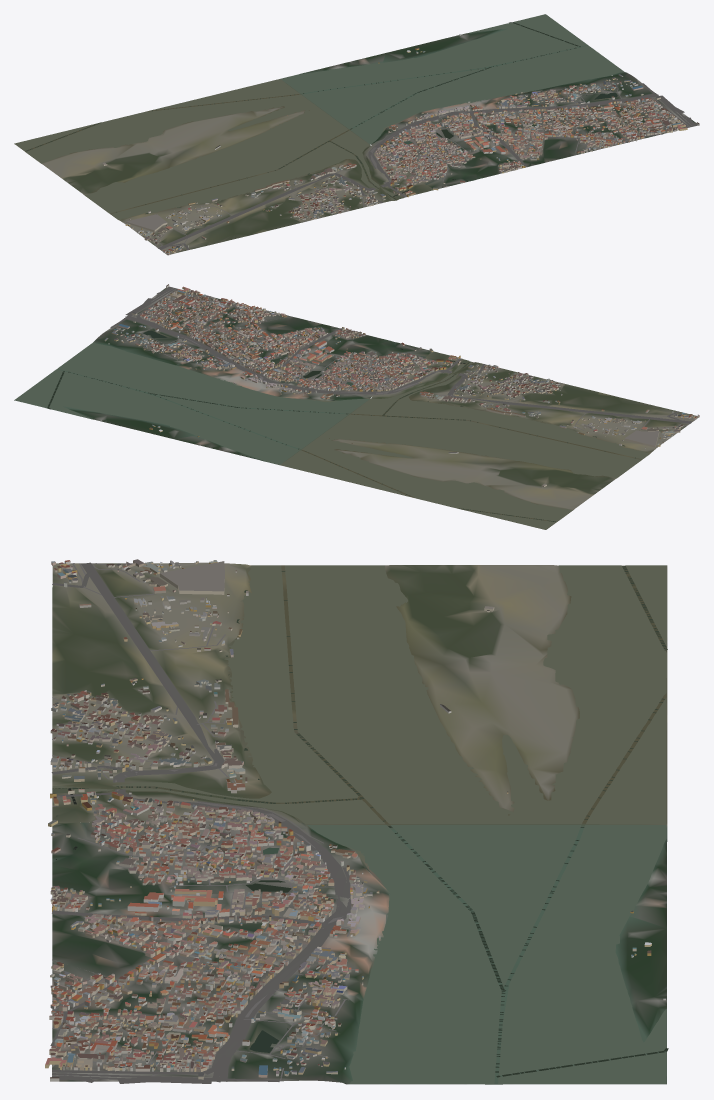
3 views of the same model, one above another, from view 1: azimuth 30°, elevation 25°; view 2: azimuth 150°, elevation 25°; view 3: azimuth 270°, elevation 25° (orthographic). The views are drawn at different scales.
Visible parts, largest first — view 1: water, ground, buildings, roads; view 2: water, ground, buildings, roads; view 3: water, ground, buildings, roads.
Part boxes in pixels (x1,y1,x2,y2): water: (14,14,624,219); ground: (14,22,697,255); buildings: (102,34,699,255); roads: (155,80,697,252); water: (14,330,649,529); ground: (14,287,699,529); buildings: (100,284,699,486); roads: (110,286,694,432); water: (52,565,668,1083); ground: (52,562,667,1084); buildings: (45,559,665,1081); roads: (50,562,361,1083).
Size of the model in its own units: 2822 by 26.18 by 1422.
